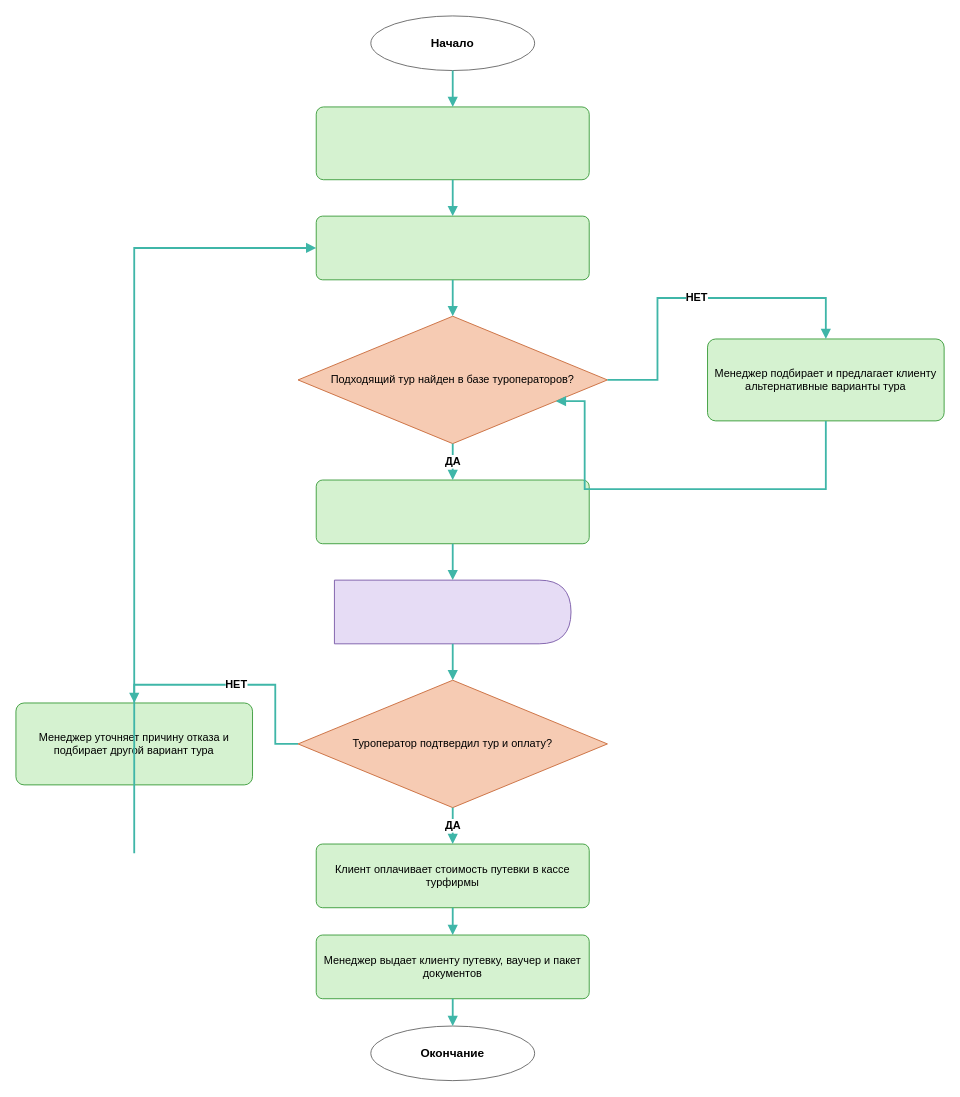
Some shapes in this 960 by 1097 pixel diagram are drawn without their labels. Each missing label, with the centre of its shape:
Клиент обращается в турфирму и сообщает о желании приобрести путевку: point (452, 143)
Менеджер уточняет пожелания, бюджет и сроки поездки: point (452, 247)
Менеджер формирует заявку и направляет её туроператору: point (452, 511)
Ожидание подтверждения заявки туроператором: point (452, 611)
